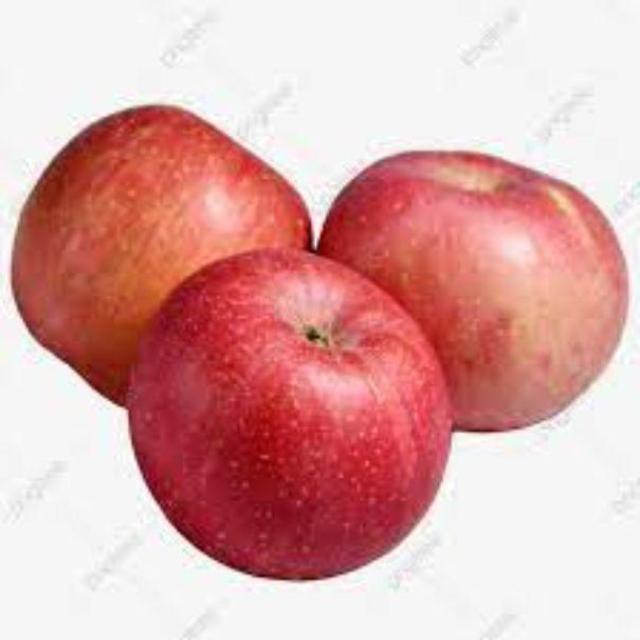Rotten Apple: (111, 310, 480, 572), (354, 107, 639, 366), (9, 96, 300, 293)
